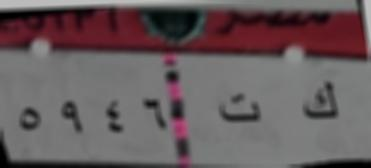4: (101, 94, 127, 138)
5: (17, 105, 44, 135)
6: (136, 92, 168, 132)
9: (57, 94, 84, 138)
kaaf: (299, 80, 342, 123)
taa: (216, 91, 262, 130)
